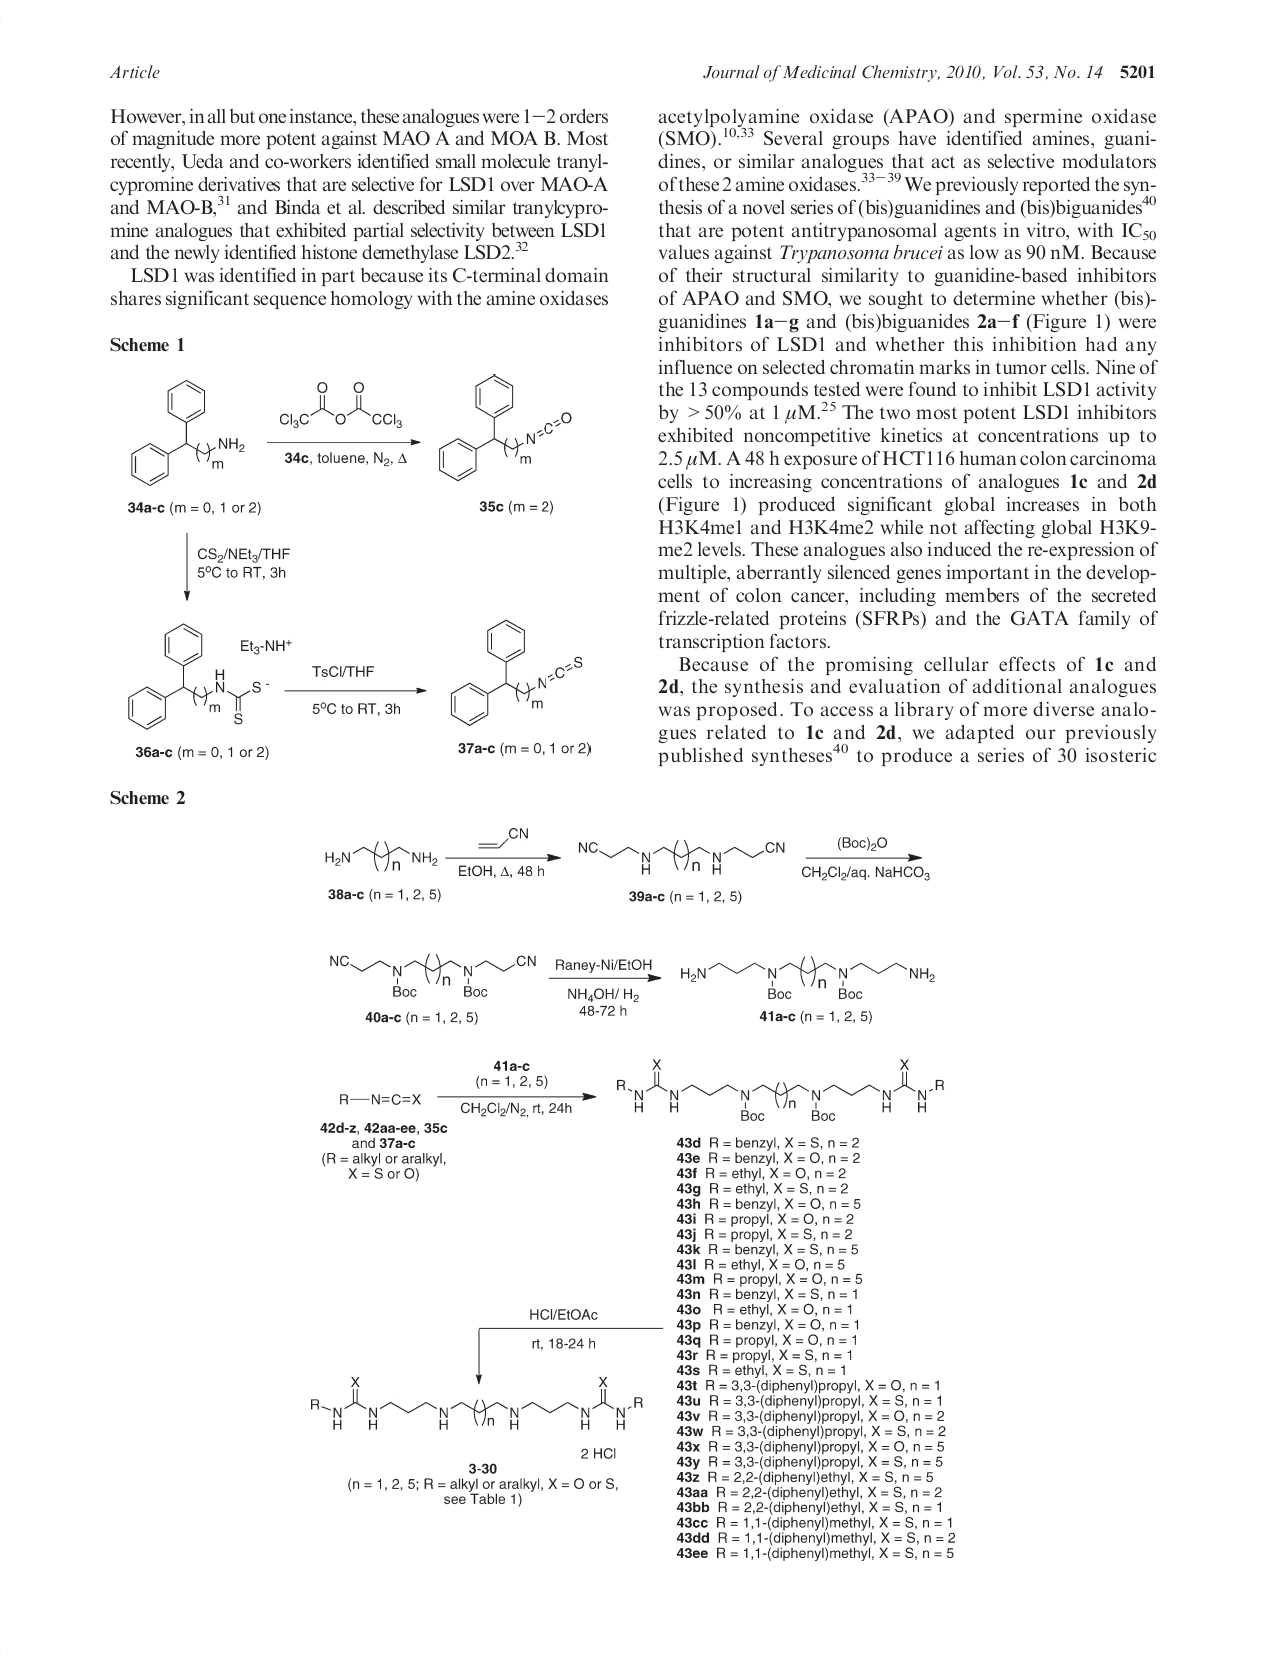exist_molecular: (612, 1055, 957, 1126), (306, 1375, 652, 1439), (122, 621, 298, 735), (432, 375, 582, 483), (442, 618, 588, 725), (678, 950, 946, 1007), (124, 376, 246, 489), (330, 943, 544, 1001), (574, 829, 793, 879), (270, 375, 416, 434), (320, 831, 444, 880), (468, 813, 536, 852)
